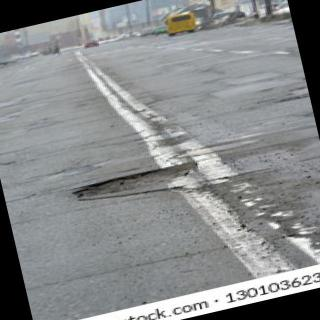pothole: (72, 163, 196, 202)
